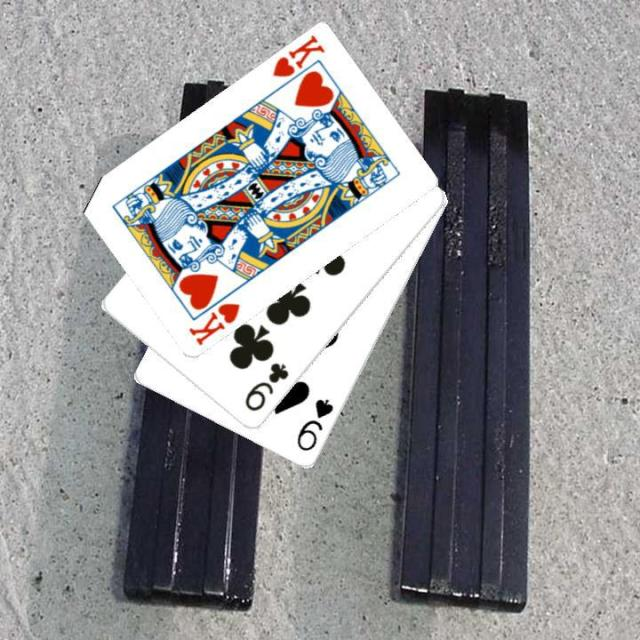9C: (240, 359, 291, 414)
9S: (292, 395, 336, 453)
KH: (184, 298, 242, 348), (268, 32, 327, 80)
